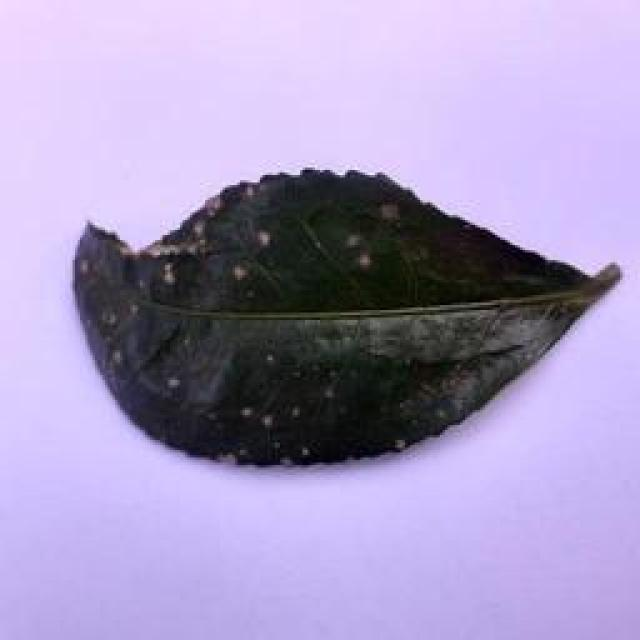Algal Leaf Spot: (68, 166, 625, 474)
